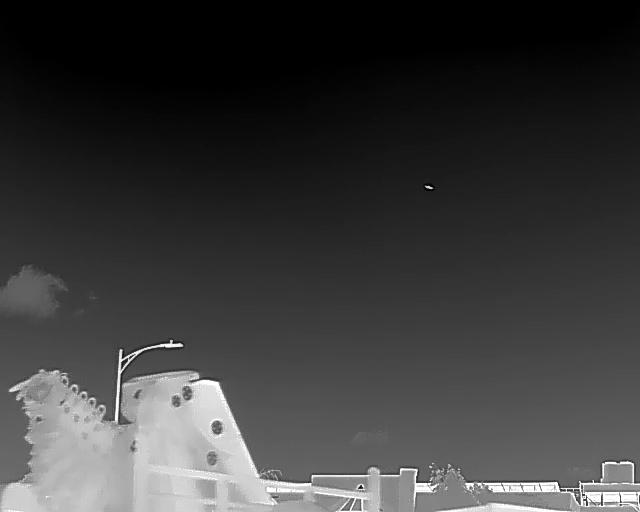fpv-drone: (423, 183, 434, 189)
